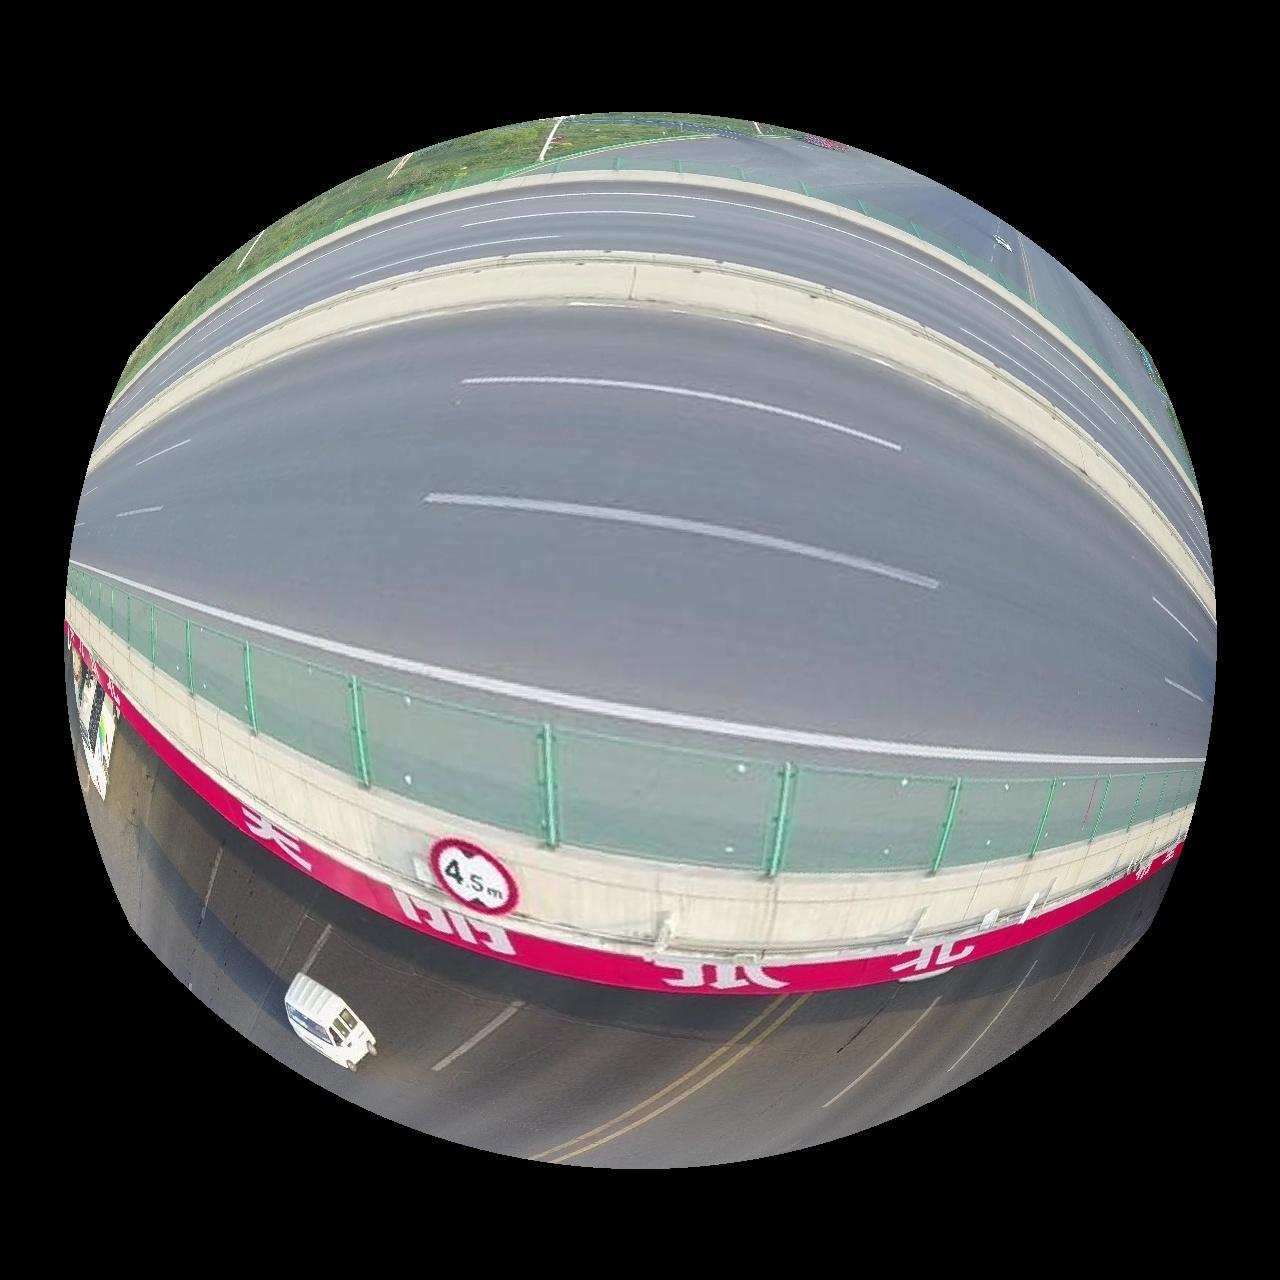cars: (283, 974, 377, 1074), (73, 667, 117, 800)
